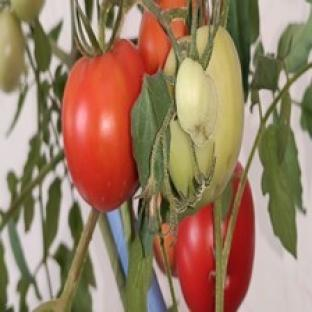Tomato: (62, 39, 143, 211), (169, 27, 243, 207), (225, 182, 254, 311), (175, 58, 217, 146), (138, 12, 171, 75), (0, 10, 25, 91), (162, 223, 176, 275)
